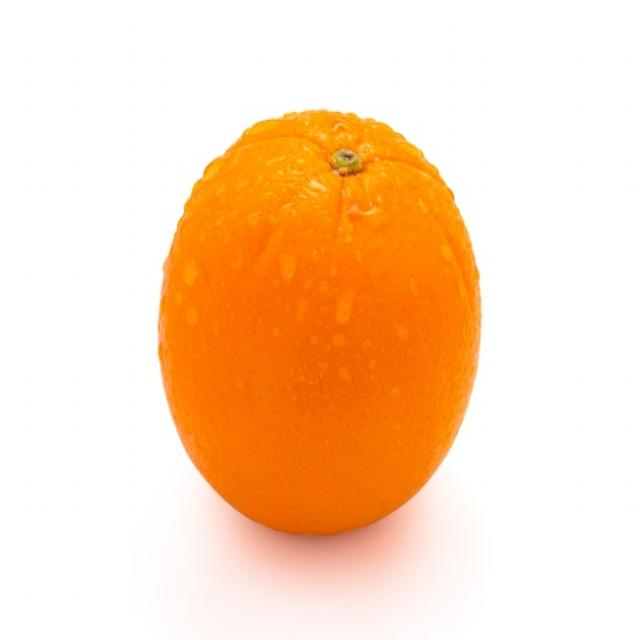Orange: (161, 110, 487, 538)
